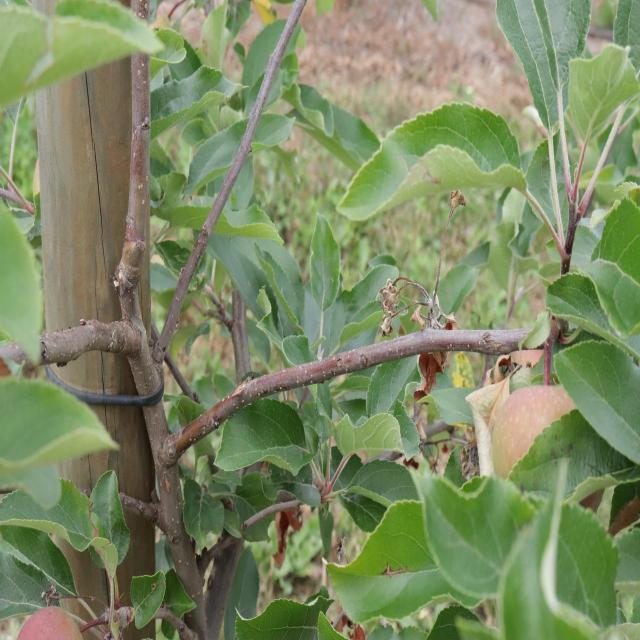-FireBlight-: (387, 281, 459, 390)
